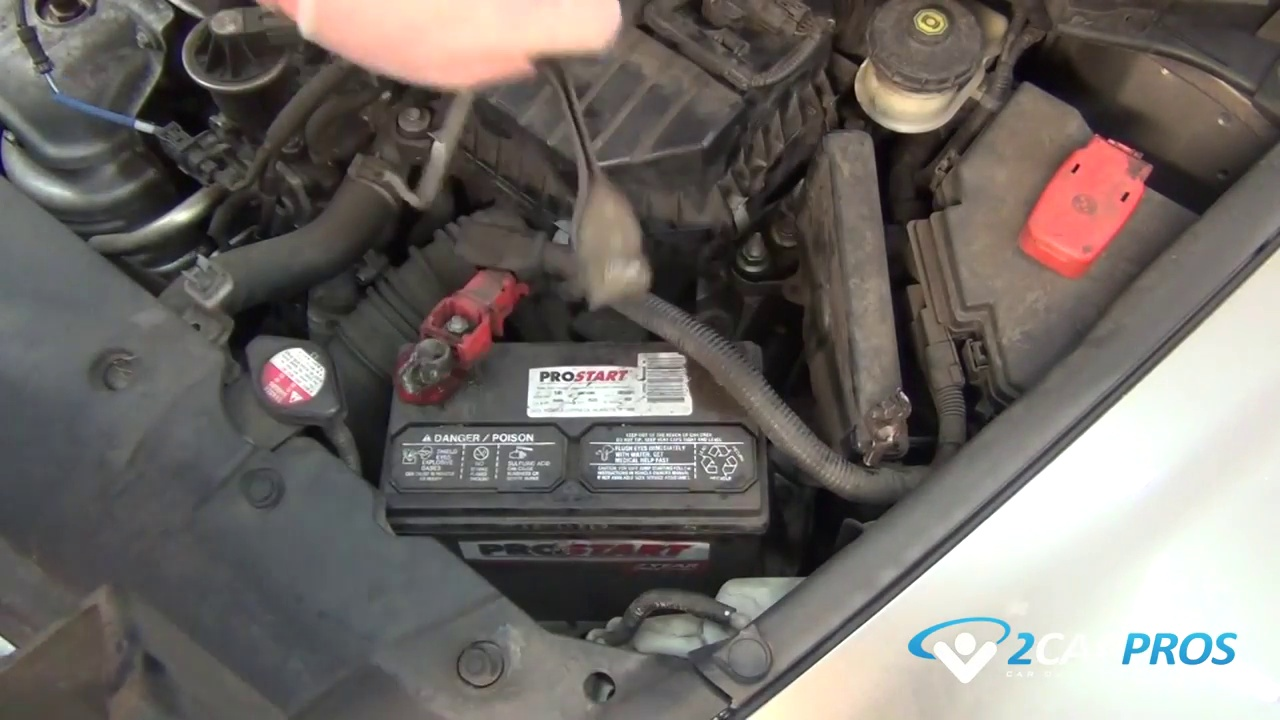battery: (390, 325, 750, 514)
pos_connected: (378, 285, 521, 402)
